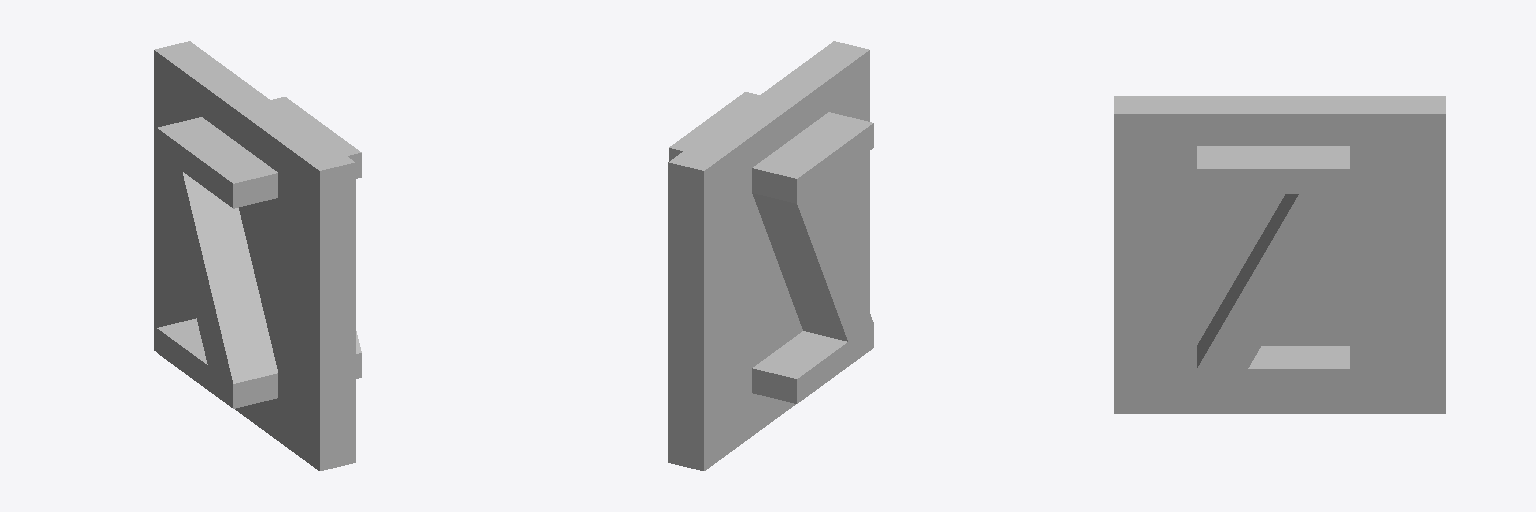
File: letter_Z.obj
3 views of the same model, side by side, from view 1: azimuth 30°, elevation 25°; view 2: azimuth 150°, elevation 25°; view 3: azimuth 270°, elevation 25° (orthographic).
Parts seen in each view (by area): view 1: window, Text; view 2: window, Text; view 3: window, Text.
Part boxes in pixels (x1,y1,x2,y2): window: (154,41,355,470); Text: (157,97,361,408); window: (668,41,869,470); Text: (669,92,873,403); window: (1114,96,1445,413); Text: (1197,146,1349,393).
Bounding box in the file's own units: 0.894 × 2 × 2.